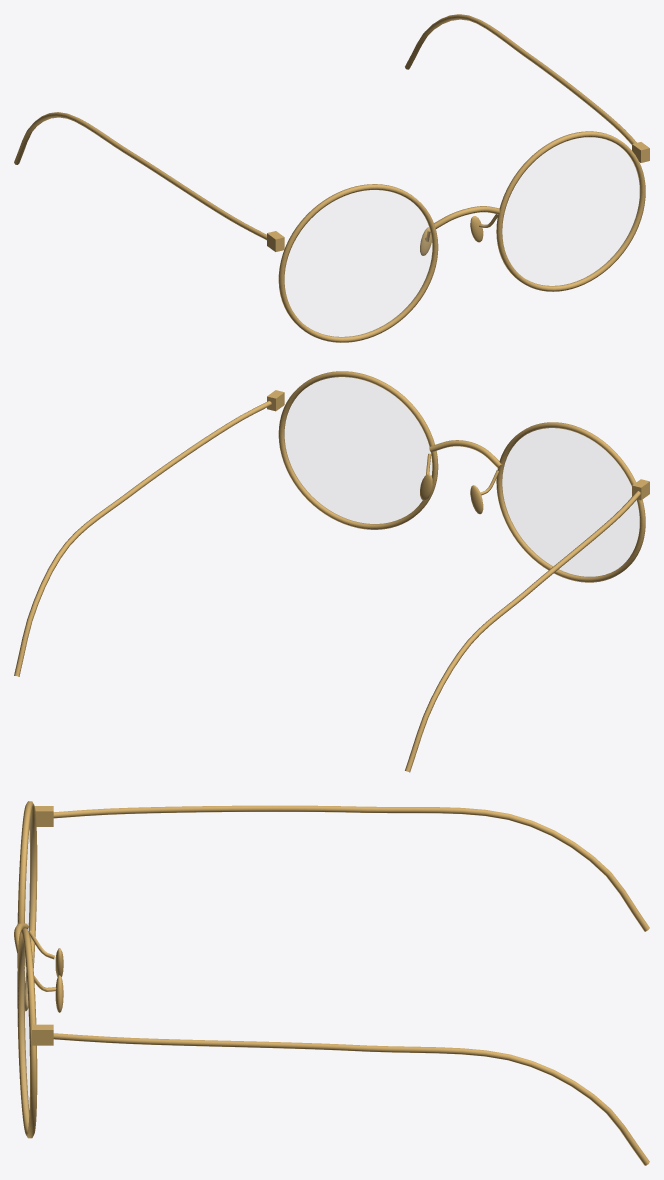
Rendered from NY-W08_Tara_Gold.glb.
The picture shows the model from 3 angles, top to bottom: view 1: azimuth 30°, elevation 25°; view 2: azimuth 150°, elevation 25°; view 3: azimuth 270°, elevation 25°; orthographic projection. The views are drawn at different scales.
Parts seen in each view (by area): view 1: Tara_Gold_Lenses, Tara_Gold_Metal; view 2: Tara_Gold_Lenses, Tara_Gold_Metal; view 3: Tara_Gold_Metal, Tara_Gold_Lenses.
Part boxes in pixels (box(x1,y1,x2,y2)): Tara_Gold_Lenses: box(285, 138, 639, 336); Tara_Gold_Metal: box(14, 14, 649, 342); Tara_Gold_Lenses: box(284, 377, 638, 576); Tara_Gold_Metal: box(14, 371, 649, 772); Tara_Gold_Metal: box(14, 801, 649, 1165); Tara_Gold_Lenses: box(22, 815, 32, 1121).
Bounding box in the file's own units: 0.131 × 0.0475 × 0.1448.
